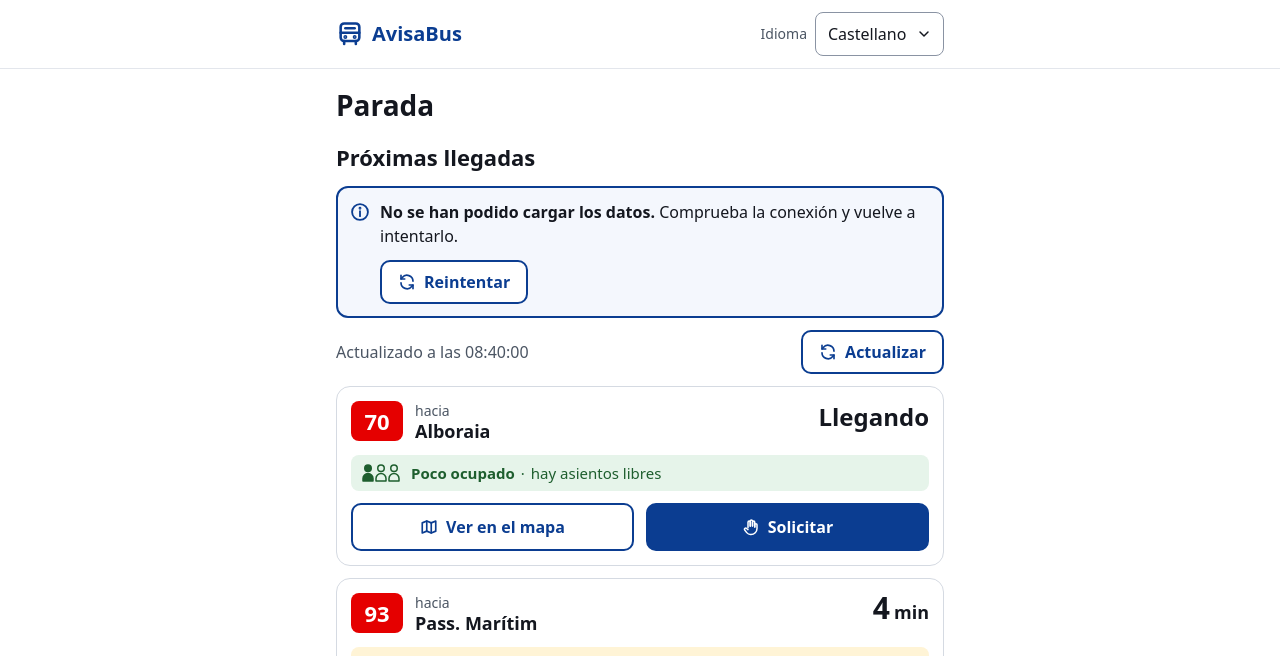
StopPage errors and connectivity › [passenger_stop_view.AC-17] when only the stop request fails, the message speaks of the data and "Reintentar" asks for the stop again
Expected: the text "No se han podido cargar los datos." is shown, x1=380 y1=201 x2=655 y2=223
What coordinates should you click on to do the following:
click the button "Reintentar"
I would click on:
 (454, 282)
Its box is x1=380 y1=260 x2=528 y2=304.
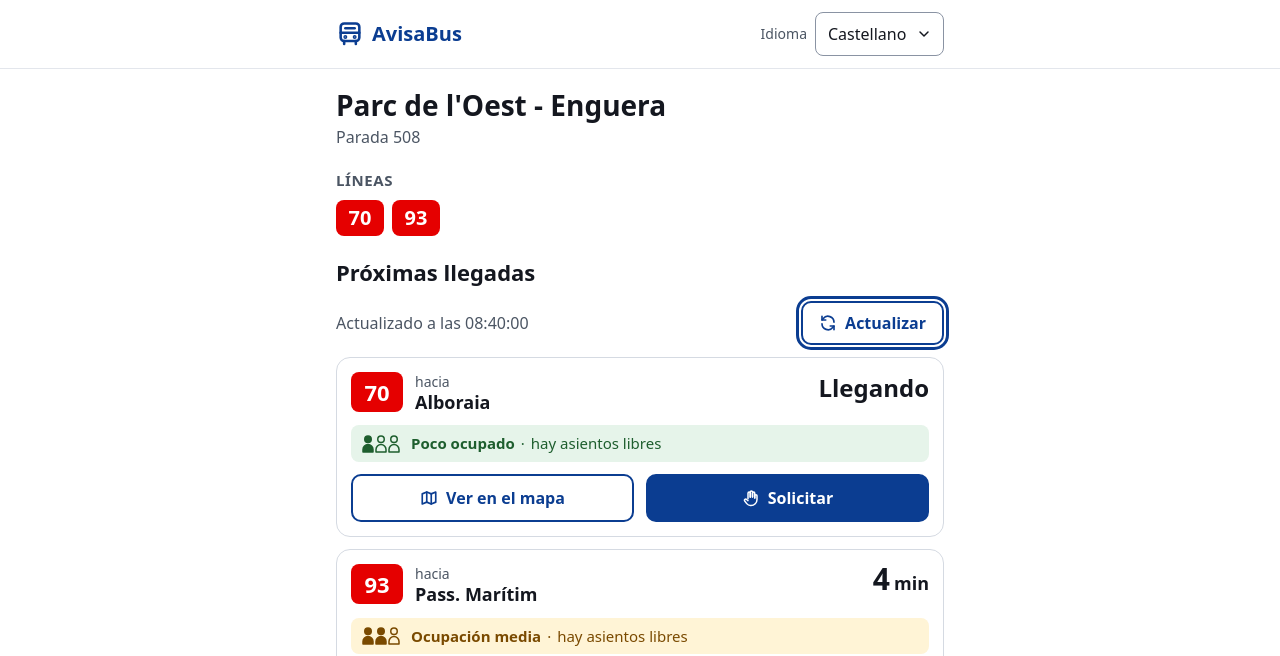
Result: the heading "Parc de l'Oest - Enguera" is shown at x1=336 y1=86 x2=666 y2=124
Result: the text "No se han podido cargar los datos." is gone
Result: the button "Reintentar" is gone
